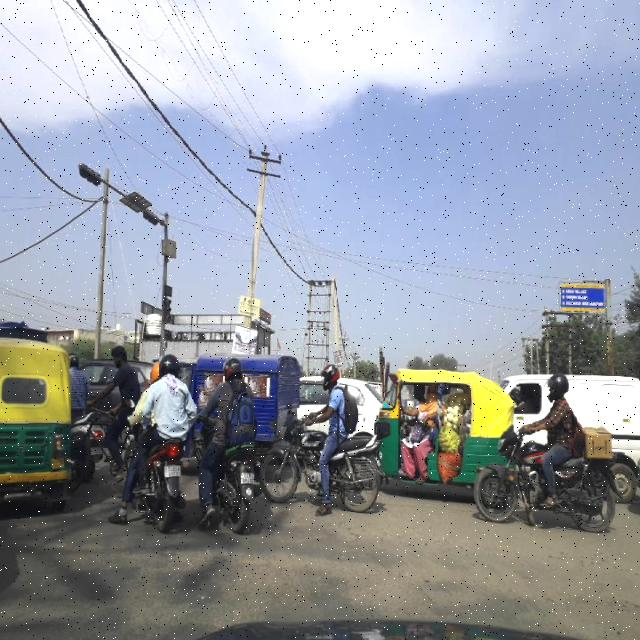D40: (383, 566, 536, 606), (329, 522, 359, 542)
